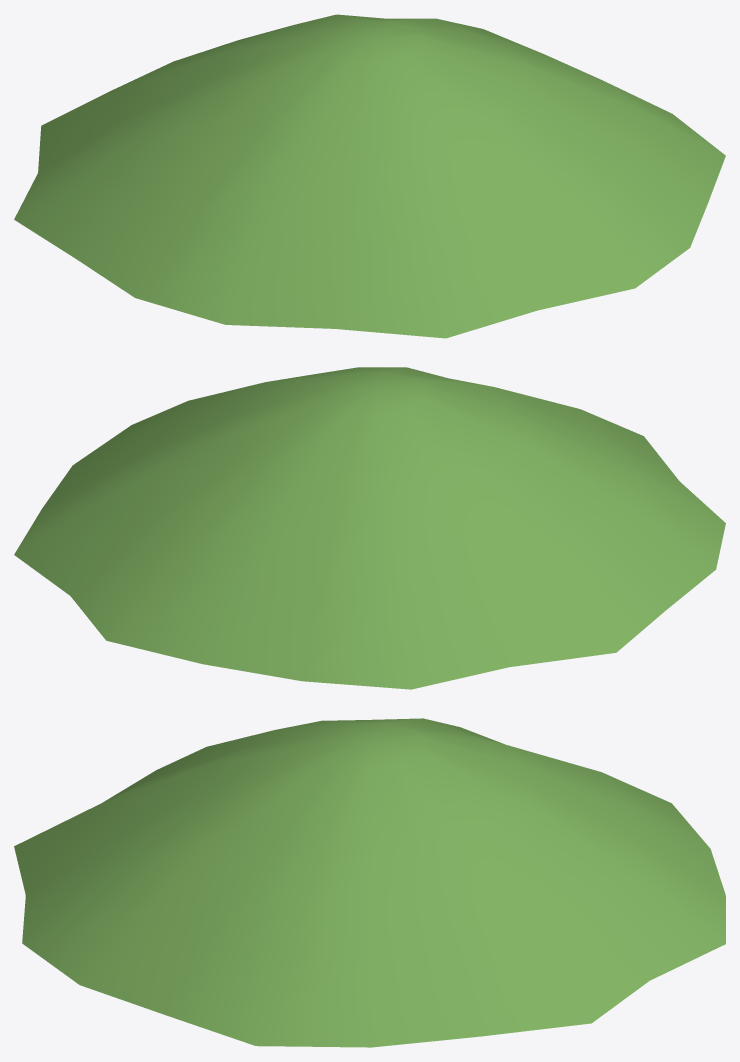
The model's file is hill.glb.
3 views of the same model, one above another, from view 1: azimuth 30°, elevation 25°; view 2: azimuth 150°, elevation 25°; view 3: azimuth 270°, elevation 25° (orthographic). The views are drawn at different scales.
Visible parts, largest first — view 1: Gentle grassy hill; view 2: Gentle grassy hill; view 3: Gentle grassy hill.
Boxes of the visible parts, box(x1,y1,x2,y2) form: Gentle grassy hill: box(14, 14, 725, 338); Gentle grassy hill: box(14, 367, 725, 689); Gentle grassy hill: box(14, 718, 725, 1047).
Bounding box in the file's own units: 4.68 × 1.12 × 4.65.
